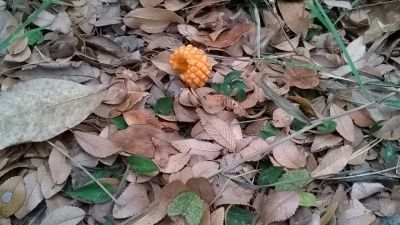eggs: (171, 44, 212, 89)
